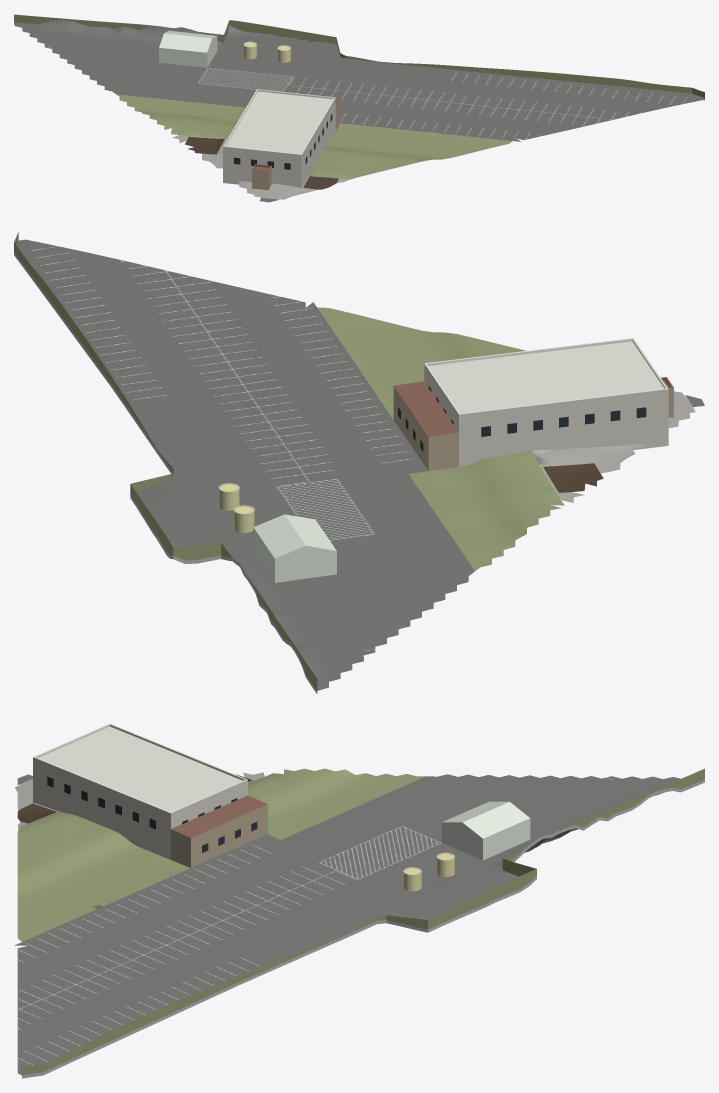
3 views of the same model, one above another, from view 1: azimuth 30°, elevation 25°; view 2: azimuth 150°, elevation 25°; view 3: azimuth 270°, elevation 25° (orthographic). The views are drawn at different scales.
Parts seen in each view (by area): view 1: SW_ground_lot60_asphalt_-1_9_UNVERIFIED, SW_L60_north_L6N_Clinical_Services_annex_UNVERIFIED, SW_L60_north_L6N_white_shed_UNVERIFIED, SW_ground_lot60_concrete_-1_9_UNVERIFIED, SW_ground_lot60_mulch_-1_9_UNVERIFIED, SW_L60_north_L6N_Clinical_Services_NE_strip_UNVERIFIED, SW_L60_north_L6N_tank_1_UNVERIFIED; view 2: SW_ground_lot60_asphalt_-1_9_UNVERIFIED, SW_L60_north_L6N_Clinical_Services_annex_UNVERIFIED, SW_L60_north_L6N_Clinical_Services_NE_strip_UNVERIFIED, SW_L60_north_L6N_white_shed_UNVERIFIED, SW_ground_lot60_concrete_-1_9_UNVERIFIED, SW_ground_lot60_mulch_-1_9_UNVERIFIED, SW_L60_north_L6N_tank_1_UNVERIFIED; view 3: SW_ground_lot60_asphalt_-1_9_UNVERIFIED, SW_L60_north_L6N_Clinical_Services_annex_UNVERIFIED, SW_L60_north_L6N_Clinical_Services_NE_strip_UNVERIFIED, SW_L60_north_L6N_white_shed_UNVERIFIED, SW_L60_north_L6N_tank_1_UNVERIFIED, SW_ground_lot60_concrete_-1_9_UNVERIFIED.
Boxes of the visible parts, x1=… form: SW_ground_lot60_asphalt_-1_9_UNVERIFIED: x1=14, y1=14, x2=704, y2=202; SW_L60_north_L6N_Clinical_Services_annex_UNVERIFIED: x1=223, y1=89, x2=335, y2=187; SW_L60_north_L6N_white_shed_UNVERIFIED: x1=159, y1=30, x2=217, y2=67; SW_ground_lot60_concrete_-1_9_UNVERIFIED: x1=172, y1=135, x2=348, y2=199; SW_ground_lot60_mulch_-1_9_UNVERIFIED: x1=185, y1=136, x2=338, y2=189; SW_L60_north_L6N_Clinical_Services_NE_strip_UNVERIFIED: x1=234, y1=100, x2=340, y2=190; SW_L60_north_L6N_tank_1_UNVERIFIED: x1=243, y1=41, x2=290, y2=62; SW_ground_lot60_asphalt_-1_9_UNVERIFIED: x1=14, y1=232, x2=704, y2=693; SW_L60_north_L6N_Clinical_Services_annex_UNVERIFIED: x1=424, y1=338, x2=668, y2=466; SW_L60_north_L6N_Clinical_Services_NE_strip_UNVERIFIED: x1=393, y1=381, x2=673, y2=470; SW_L60_north_L6N_white_shed_UNVERIFIED: x1=253, y1=514, x2=336, y2=582; SW_ground_lot60_concrete_-1_9_UNVERIFIED: x1=532, y1=391, x2=695, y2=502; SW_ground_lot60_mulch_-1_9_UNVERIFIED: x1=543, y1=463, x2=603, y2=492; SW_L60_north_L6N_tank_1_UNVERIFIED: x1=218, y1=483, x2=254, y2=532; SW_ground_lot60_asphalt_-1_9_UNVERIFIED: x1=14, y1=768, x2=704, y2=1078; SW_L60_north_L6N_Clinical_Services_annex_UNVERIFIED: x1=33, y1=723, x2=247, y2=859; SW_L60_north_L6N_Clinical_Services_NE_strip_UNVERIFIED: x1=47, y1=776, x2=267, y2=867; SW_L60_north_L6N_white_shed_UNVERIFIED: x1=442, y1=801, x2=530, y2=860; SW_L60_north_L6N_tank_1_UNVERIFIED: x1=403, y1=852, x2=454, y2=891; SW_ground_lot60_concrete_-1_9_UNVERIFIED: x1=15, y1=772, x2=264, y2=828.
Size of the model in its own units: 120 by 10.47 by 117.
Materials: 21 (4 with a texture image).
